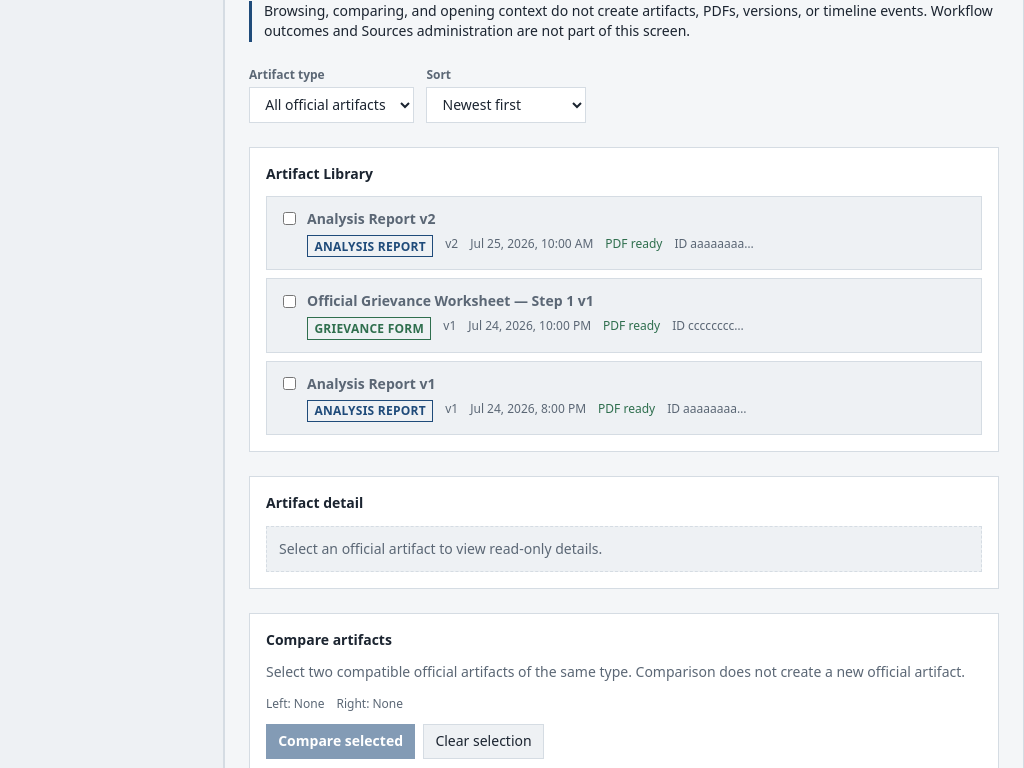
Test: W6 M7 Artifacts & History › opens read-only artifact detail and never displays stored_path
(page scrolled)
Click the text "Analysis Report v1" at [371, 384], box [307, 374, 436, 394]
(page scrolled)
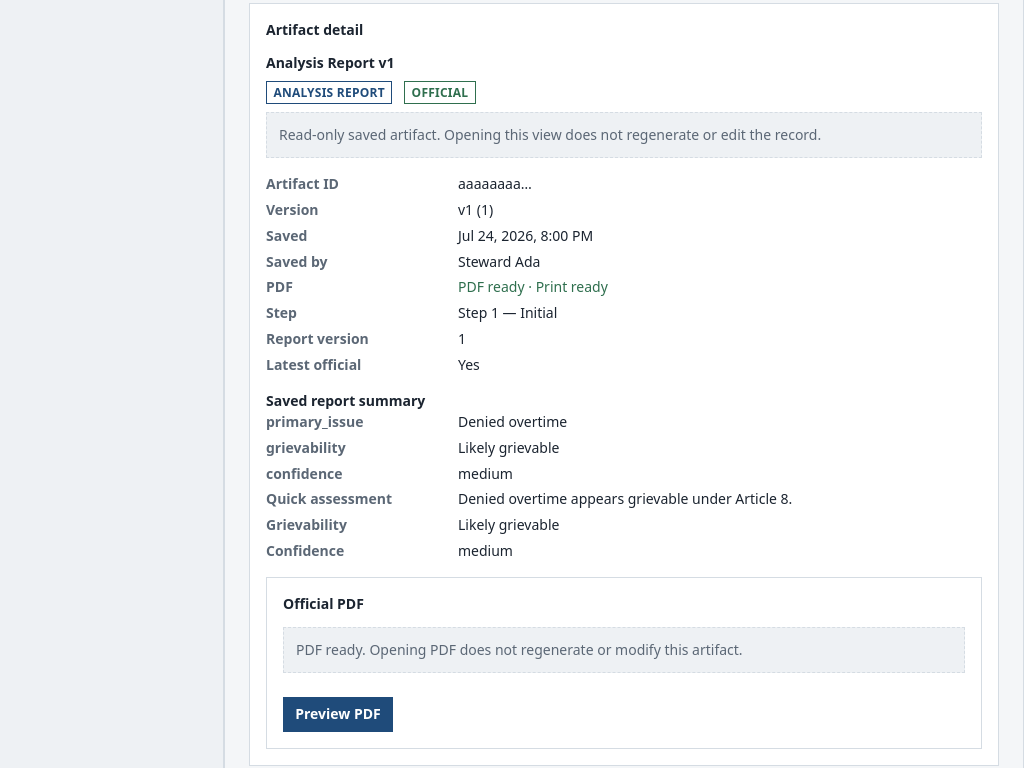
Now the text "Read-only saved artifact. Opening this view does not regenerate or edit the record." is shown, box [279, 125, 821, 144]
Now the text "Denied overtime appears grievable under Article 8." is shown, box [458, 489, 792, 508]
